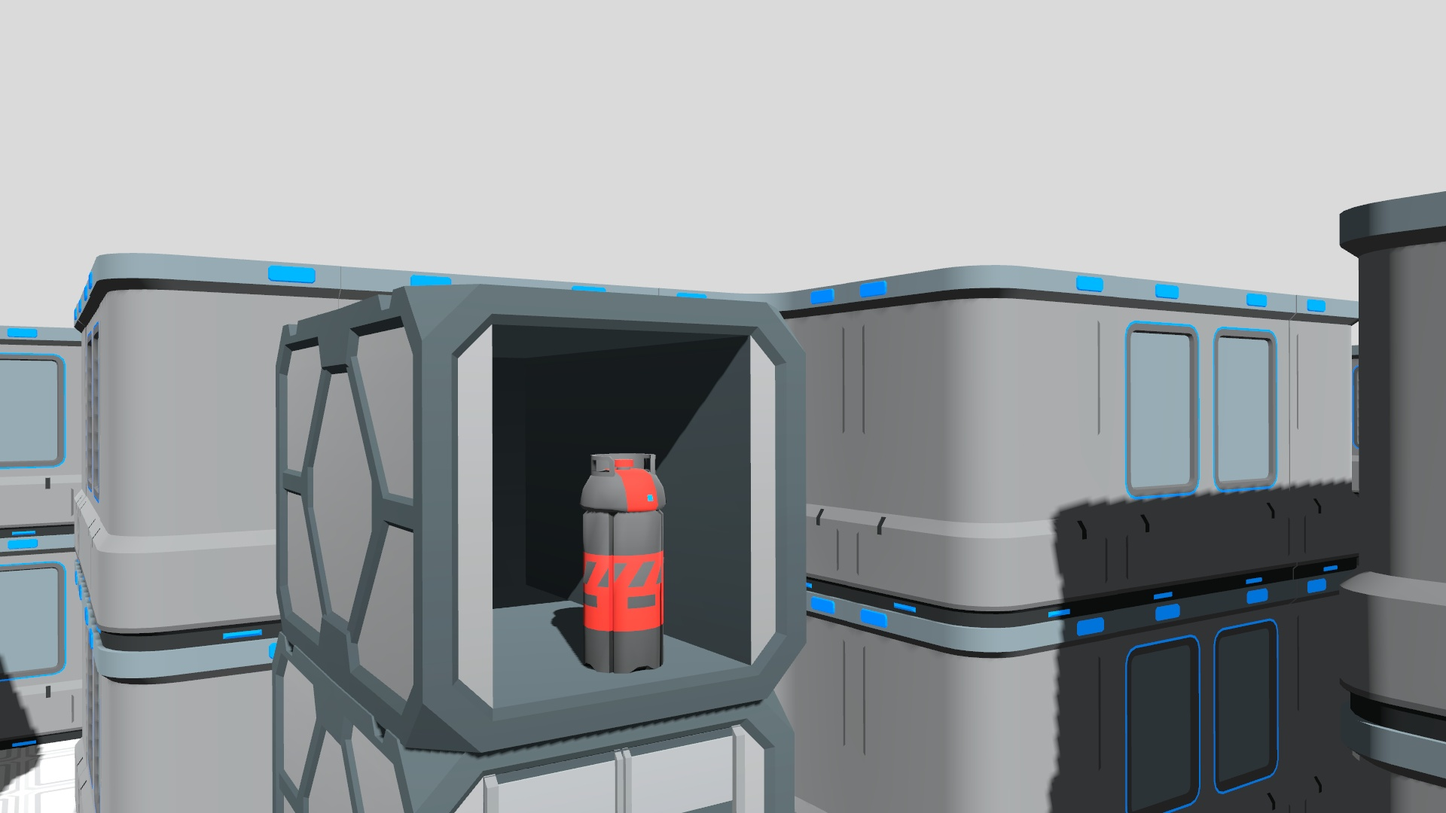red_barrel: (576, 445, 670, 681)
